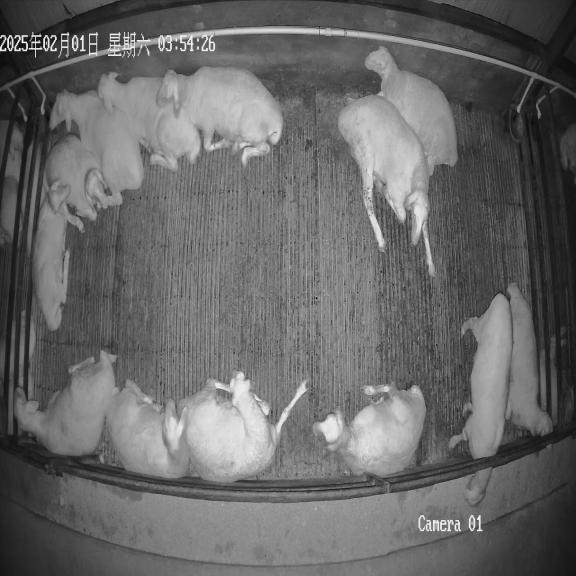eating: (449, 293, 513, 506)
lying: (338, 95, 434, 276), (181, 372, 306, 482), (158, 66, 283, 165), (365, 46, 457, 176), (313, 383, 426, 478), (14, 351, 116, 456), (50, 92, 144, 205), (97, 72, 201, 171), (106, 380, 189, 478), (33, 180, 83, 331), (505, 283, 553, 435), (45, 134, 113, 221)
